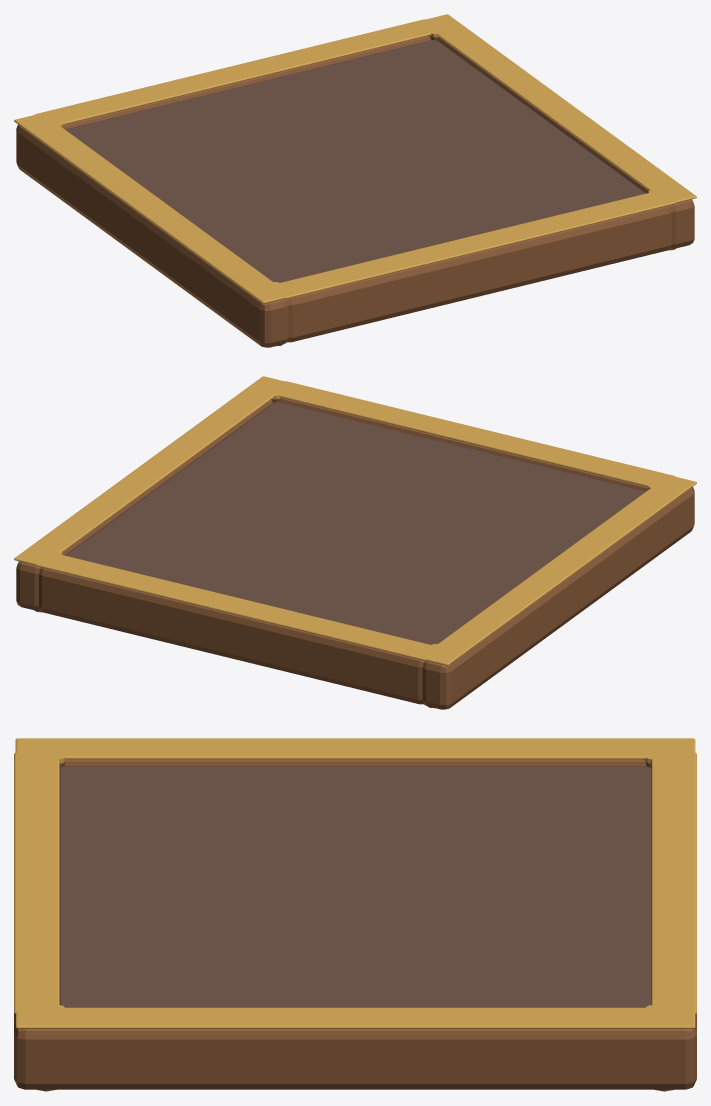
Rendered from garden-bed.fbx.
The picture shows the model from 3 angles, top to bottom: view 1: azimuth 30°, elevation 25°; view 2: azimuth 150°, elevation 25°; view 3: azimuth 270°, elevation 25°; orthographic projection. The views are drawn at different scales.
Parts seen in each view (by area): view 1: garden-bed; view 2: garden-bed; view 3: garden-bed.
Part boxes in pixels (bbox=[...]): garden-bed: bbox=[14, 14, 696, 347]; garden-bed: bbox=[14, 376, 696, 709]; garden-bed: bbox=[14, 738, 696, 1091].
Bounding box in the file's own units: 210 × 23.5 × 210.
